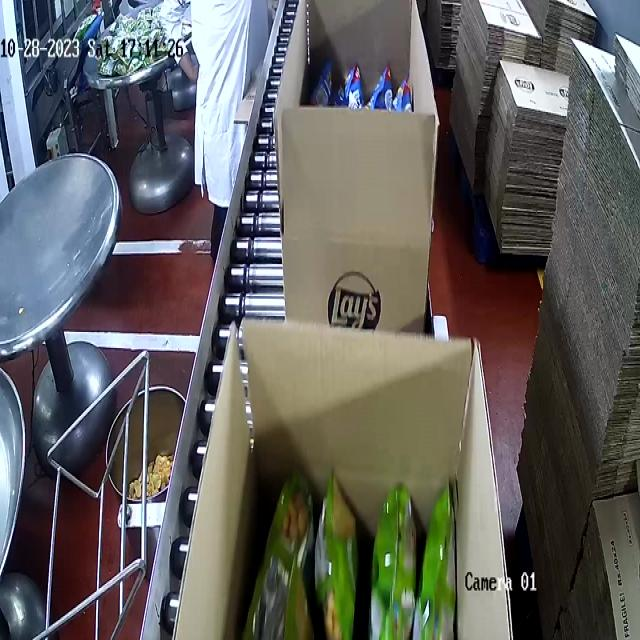PAPRIKA: (309, 56, 416, 104)
